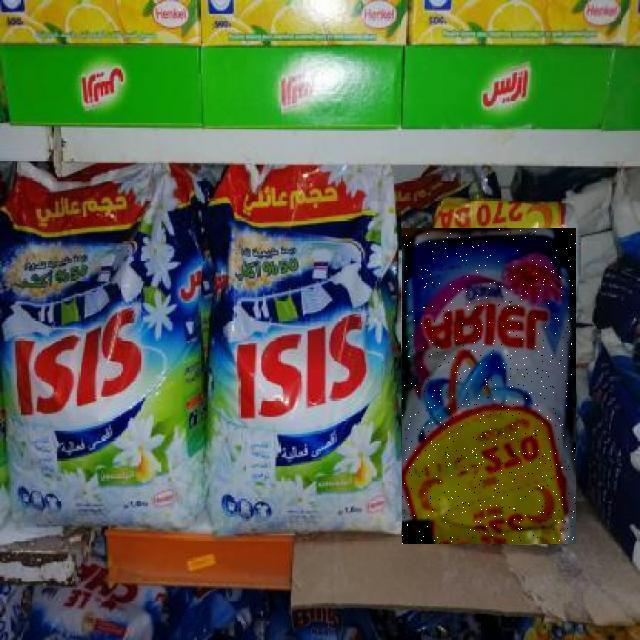Detergent: (402, 228, 576, 544)
